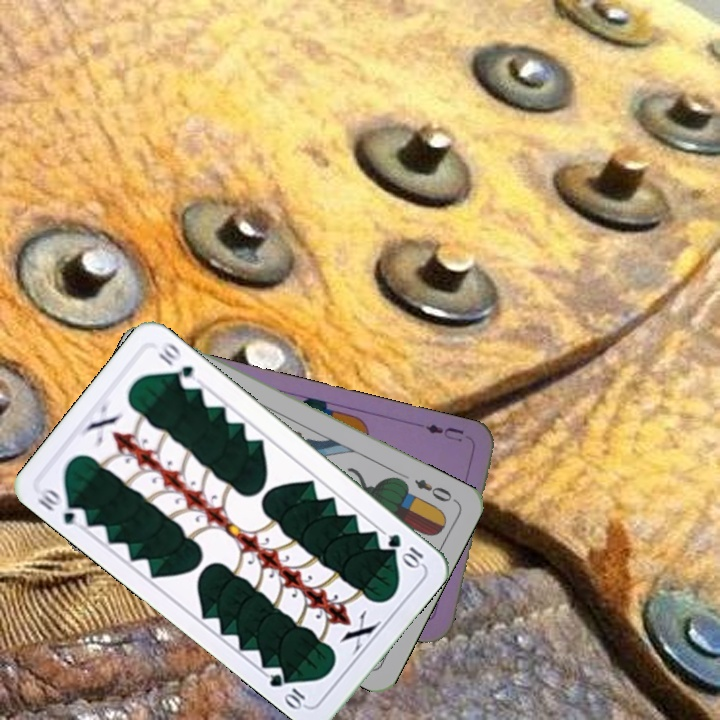EO: (410, 475, 455, 505)
EU: (421, 420, 466, 445)
G10: (34, 484, 90, 531), (383, 529, 426, 571)
